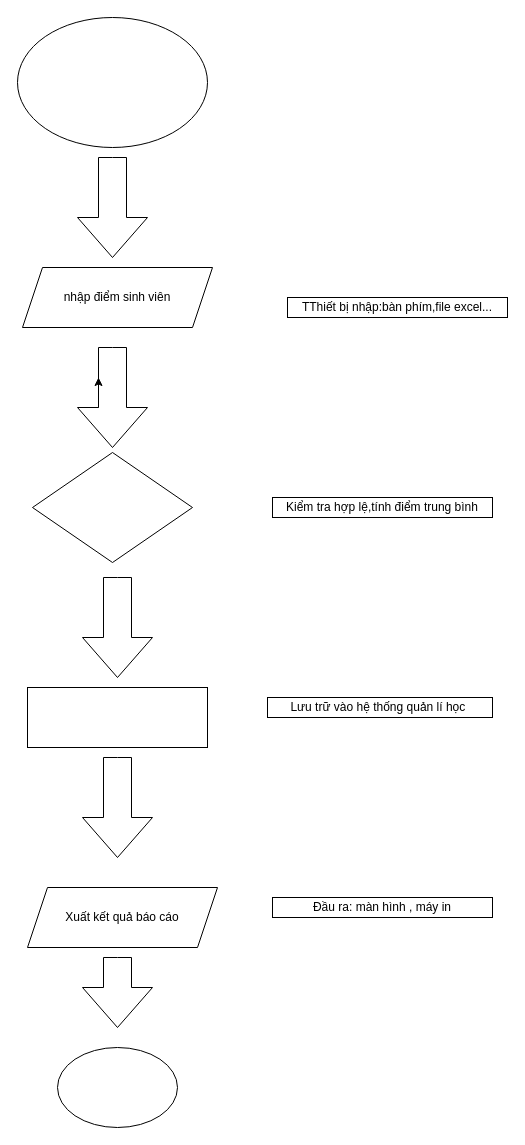
This 525x1145 diagram has some shape labels left out. The box of each missing label's shape, as (x1, y1, x2, y2) in pixels:
BBắt Đầu: (16, 16, 208, 148)
kiểm tra và xử lí dữ liệu: (32, 452, 192, 562)
Lưu trữ dữ liệu điểm: (26, 686, 208, 748)
